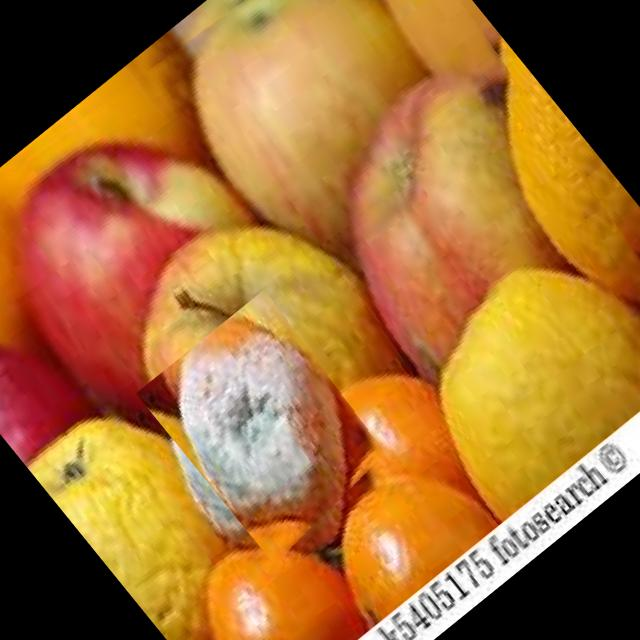Organic: (0, 0, 640, 640), (136, 288, 404, 564)
